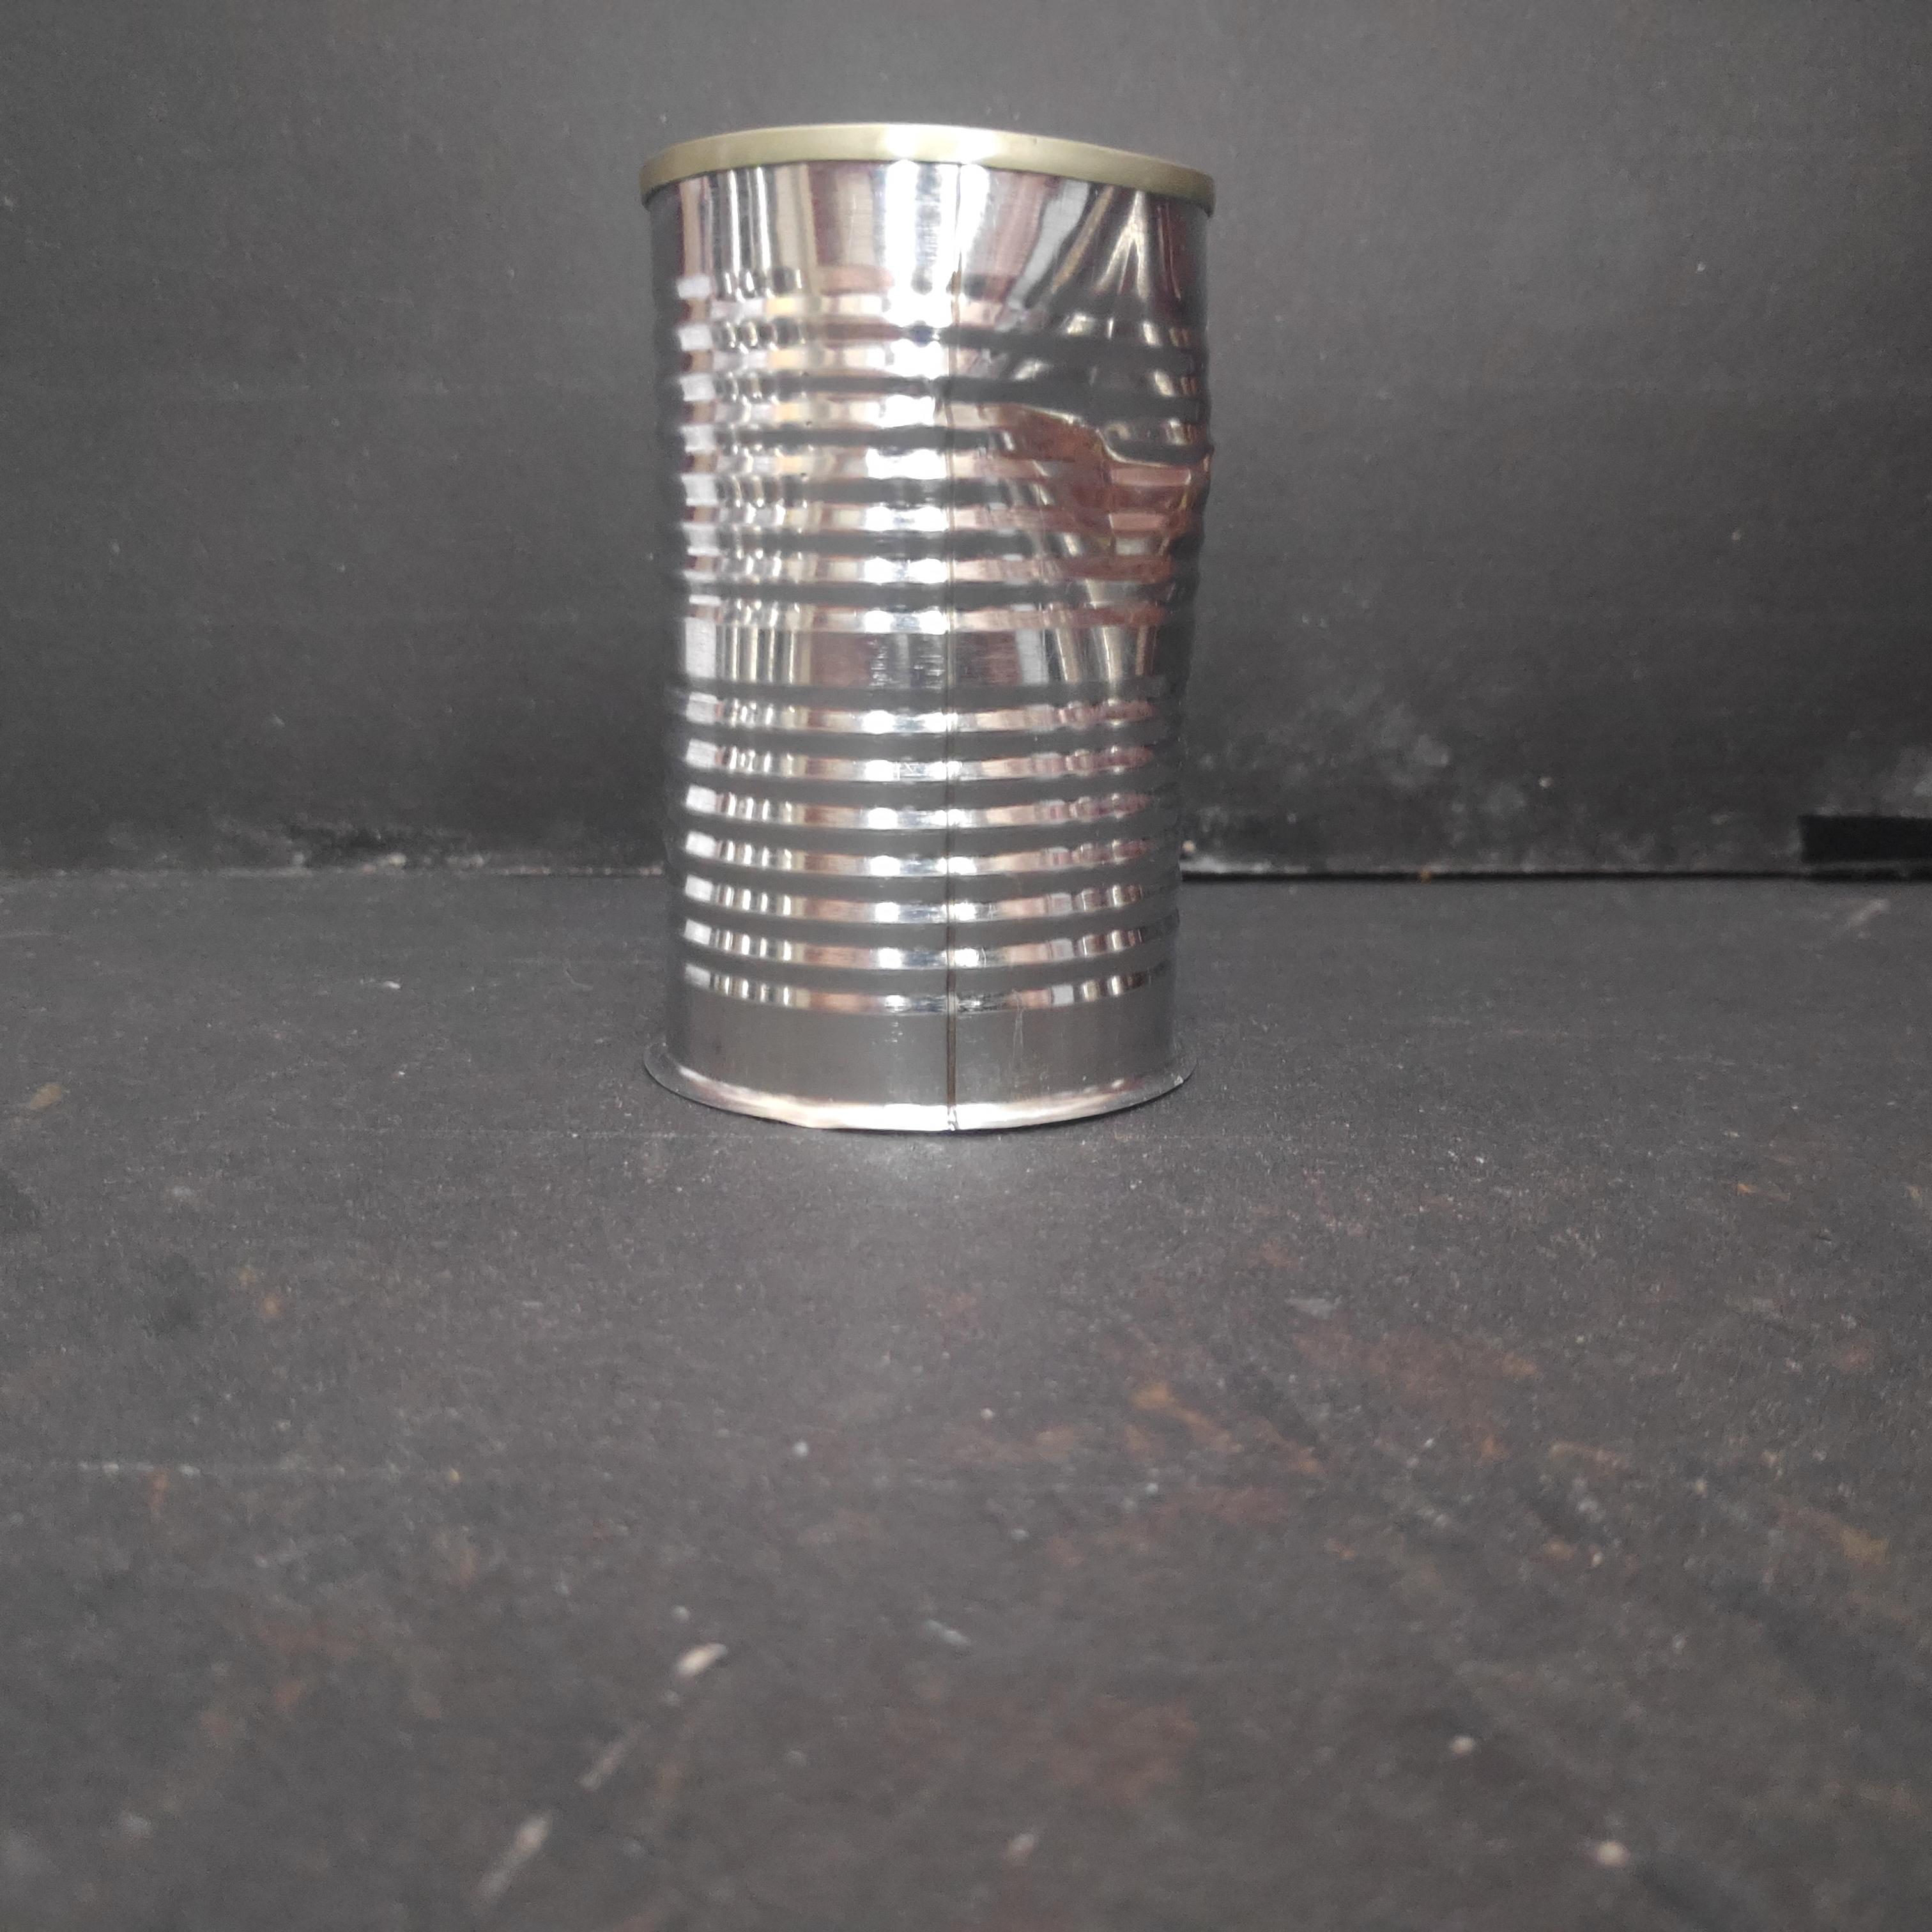Minor Defect: (630, 119, 1230, 1139)
